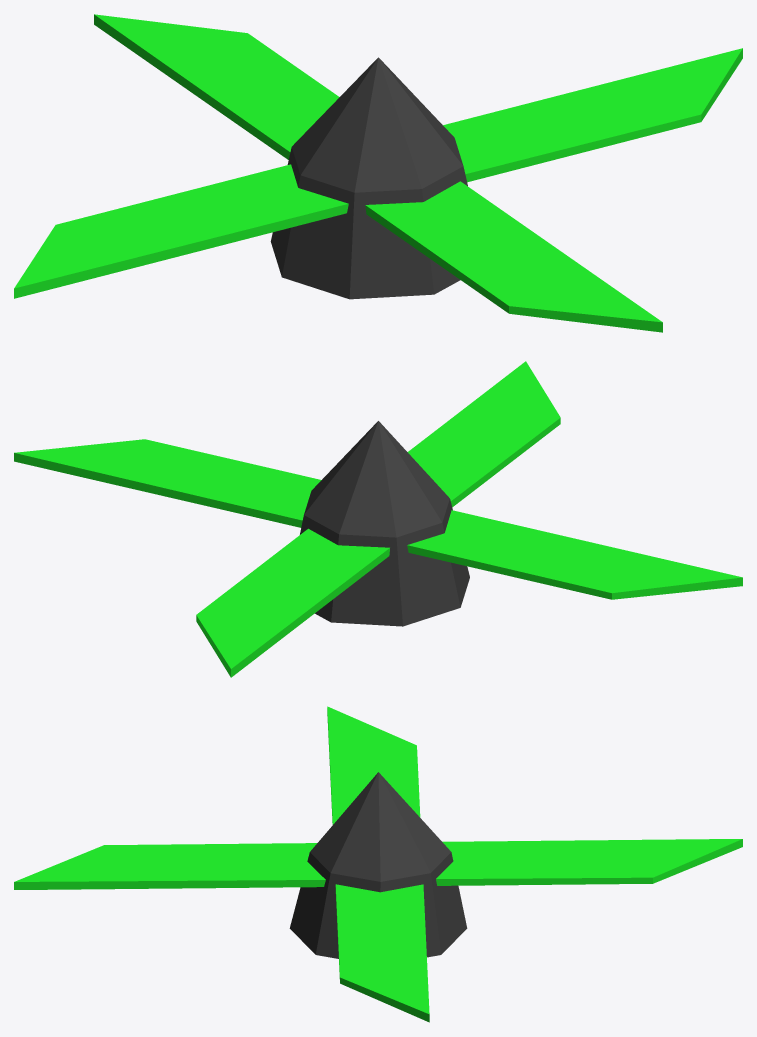
File: propellerG.obj
The picture shows the model from 3 angles, top to bottom: view 1: azimuth 30°, elevation 25°; view 2: azimuth 150°, elevation 25°; view 3: azimuth 270°, elevation 25°; orthographic projection. The views are drawn at different scales.
Visible parts, largest first — view 1: propeller_prop_Цилиндр.001; view 2: propeller_prop_Цилиндр.001; view 3: propeller_prop_Цилиндр.001.
Boxes of the visible parts, <box> form: propeller_prop_Цилиндр.001: <box>14,14,742,332</box>; propeller_prop_Цилиндр.001: <box>14,361,742,677</box>; propeller_prop_Цилиндр.001: <box>14,706,742,1022</box>.
Size of the model in its own units: 2.31 by 0.5472 by 2.31.
